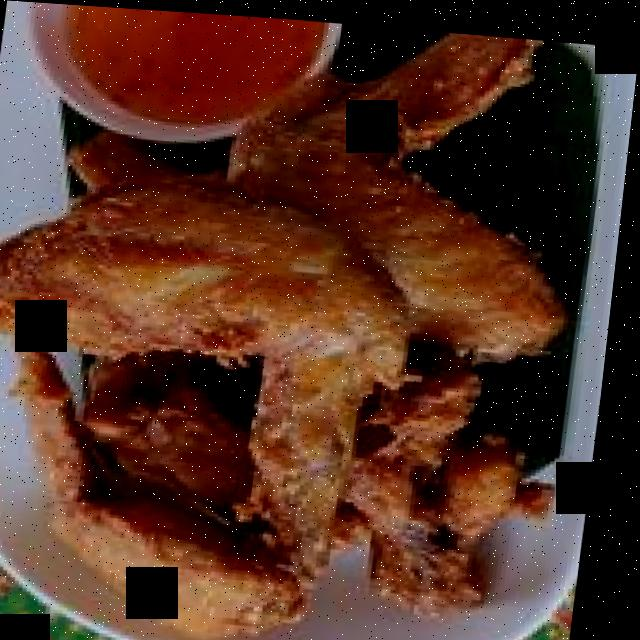Frango: (39, 4, 598, 365), (0, 167, 418, 575), (67, 333, 551, 595), (0, 326, 346, 635)
